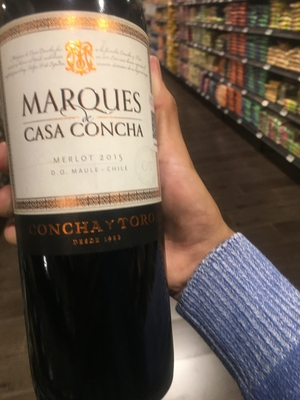marques de casa concha merlot: (2, 1, 191, 400)
